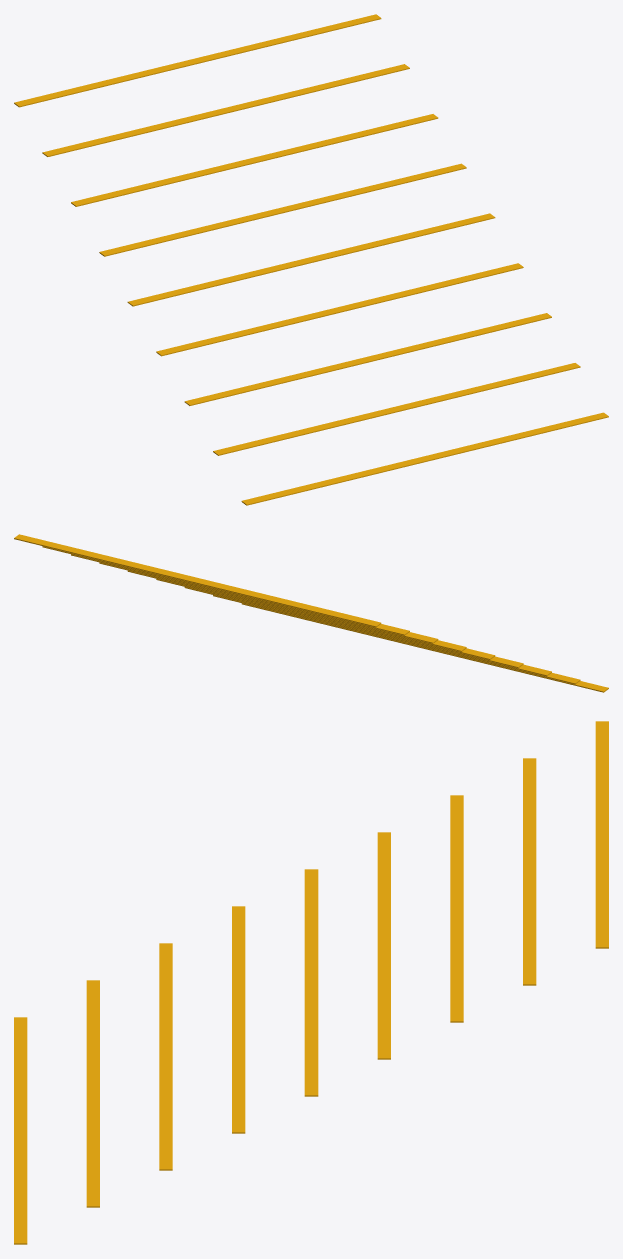
File: gteki_ik_stair_n9_r168_t299_w2215_nosing.glb
3 views of the same model, one above another, from view 1: azimuth 30°, elevation 25°; view 2: azimuth 150°, elevation 25°; view 3: azimuth 270°, elevation 25° (orthographic). The views are drawn at different scales.
Visible parts, largest first — view 1: VIS_body; view 2: VIS_body; view 3: VIS_body.
Boxes of the visible parts, <box> form: VIS_body: <box>14,14,608,505</box>; VIS_body: <box>14,534,608,692</box>; VIS_body: <box>14,721,608,1244</box>.
Size of the model in its own units: 2.2 by 1.35 by 2.45.
1 material, 1 textured.
